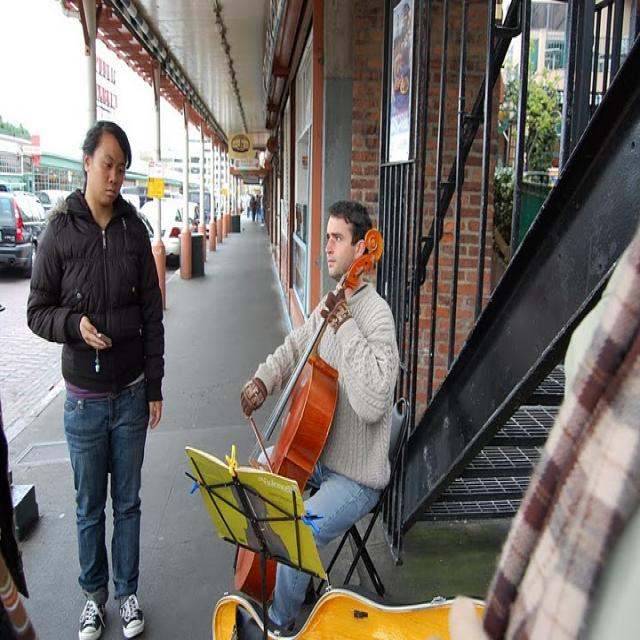cello: (235, 226, 384, 604)
